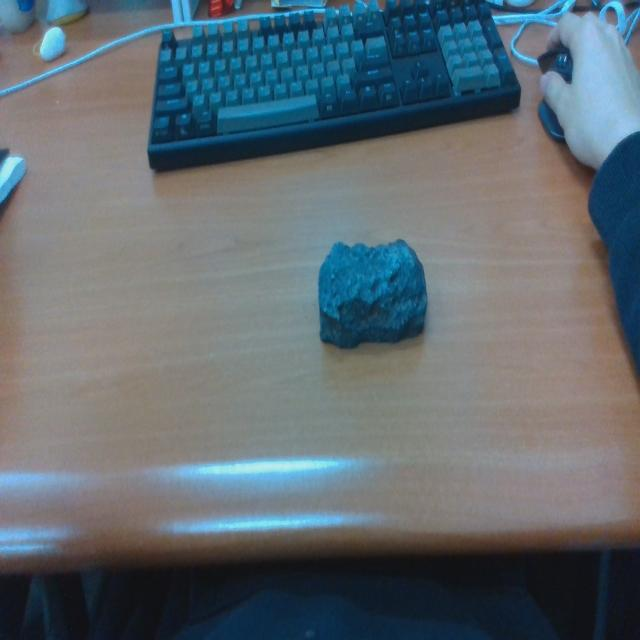stone: (317, 238, 428, 352)
